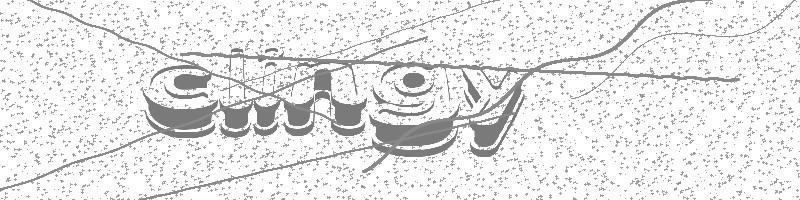c: (141, 64, 216, 140)
g: (368, 62, 459, 158)
i: (253, 45, 281, 137)
l: (219, 45, 253, 138)
n: (283, 59, 367, 137)
y: (462, 65, 525, 159)
